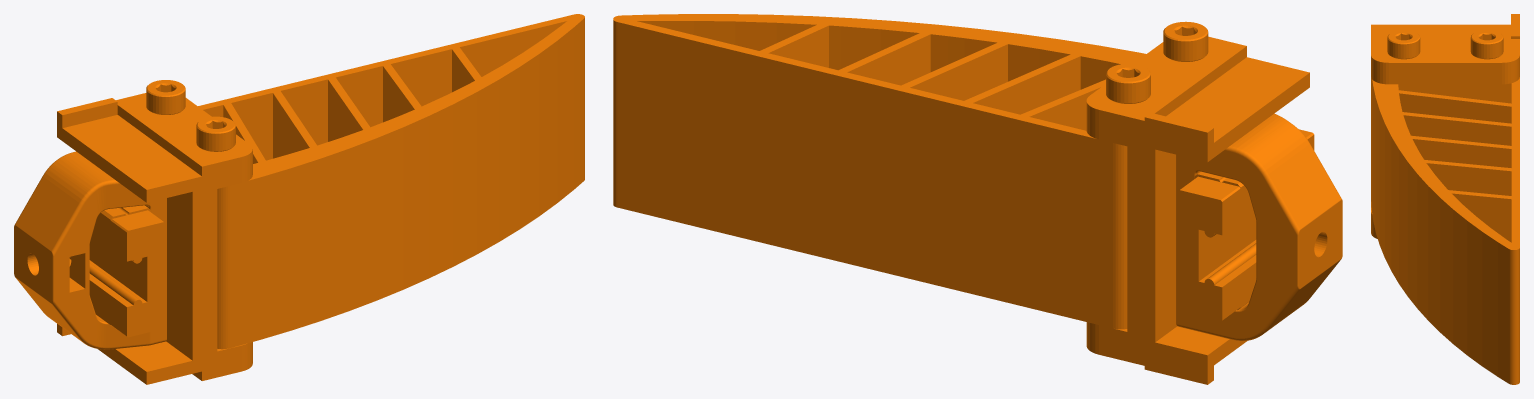
File: finger_left.obj
3 renders of one model, left to right at view 1: azimuth 30°, elevation 25°; view 2: azimuth 150°, elevation 25°; view 3: azimuth 270°, elevation 25°, orthographic. The views are drawn at different scales.
Visible parts, largest first — view 1: Finger_Left; view 2: Finger_Left; view 3: Finger_Left.
Boxes of the visible parts, <box> form: Finger_Left: <box>14,14,584,384</box>; Finger_Left: <box>613,14,1342,384</box>; Finger_Left: <box>1371,14,1519,384</box>.
Bounding box in the file's own units: 94.15 × 38 × 25.
